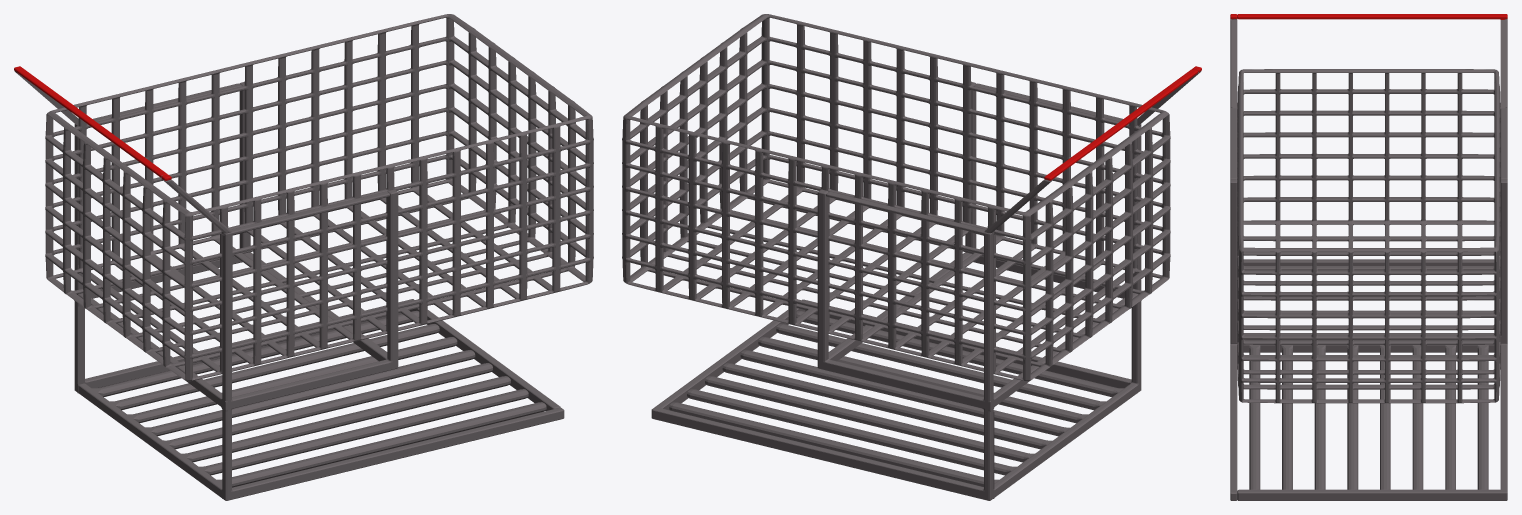
The model's file is Einkaufswagen_fertig.fbx.
3 renders of one model, left to right at view 1: azimuth 30°, elevation 25°; view 2: azimuth 150°, elevation 25°; view 3: azimuth 270°, elevation 25°, orthographic. The views are drawn at different scales.
Parts seen in each view (by area): view 1: Cube (×2); view 2: Cube (×2); view 3: Cube (×2).
Boxes of the visible parts, x1,y1,x2,y2 form: Cube (×2): [14, 14, 593, 500]; Cube (×2): [622, 14, 1201, 500]; Cube (×2): [1230, 14, 1507, 500].
Size of the model in its own units: 525 by 389 by 316.
